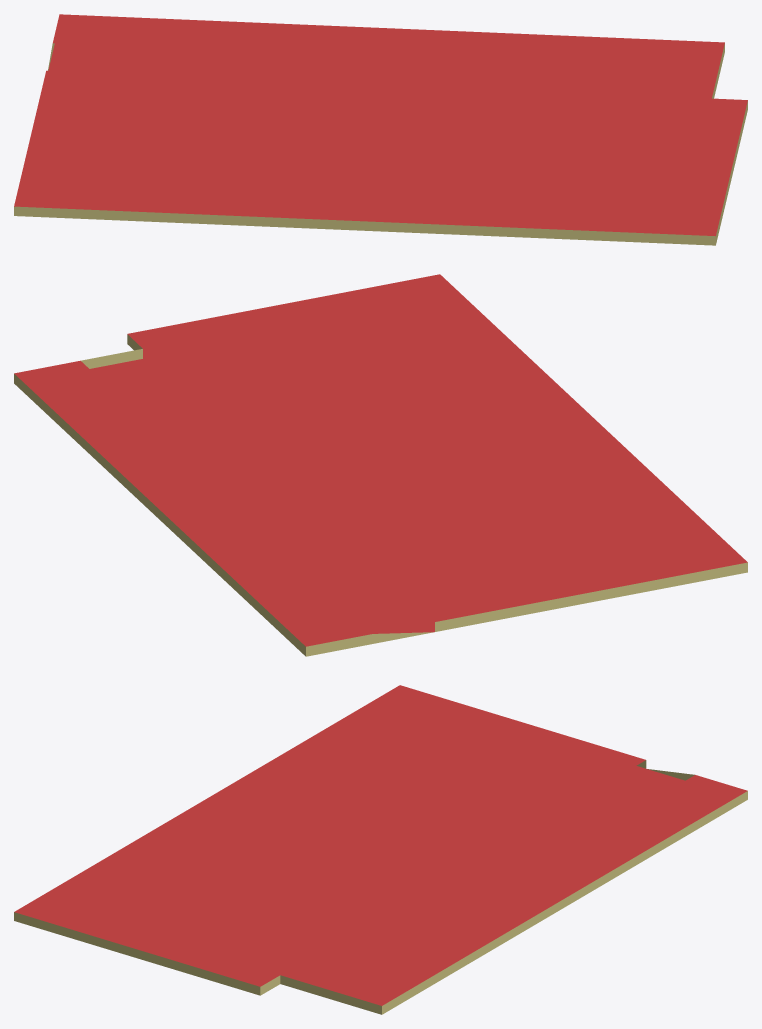
The picture shows the model from 3 angles, top to bottom: view 1: azimuth 30°, elevation 25°; view 2: azimuth 150°, elevation 25°; view 3: azimuth 270°, elevation 25°; orthographic projection. The views are drawn at different scales.
Size of the model in its own units: 7.76 by 7.5 by 0.1.
